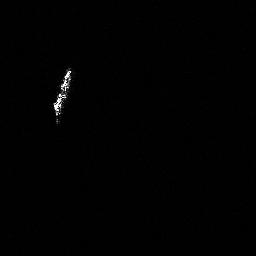ship: (47, 64, 75, 125)
